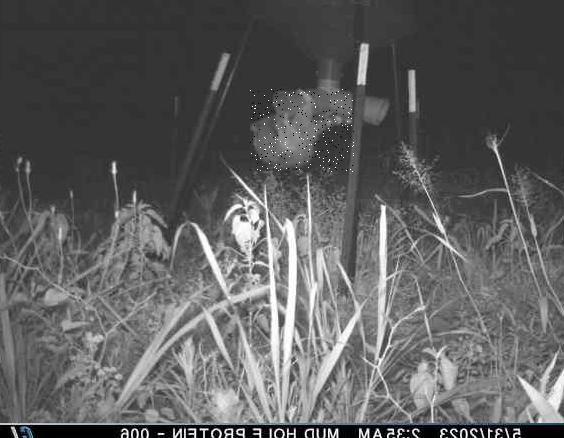Raccoon: (250, 89, 354, 172)
